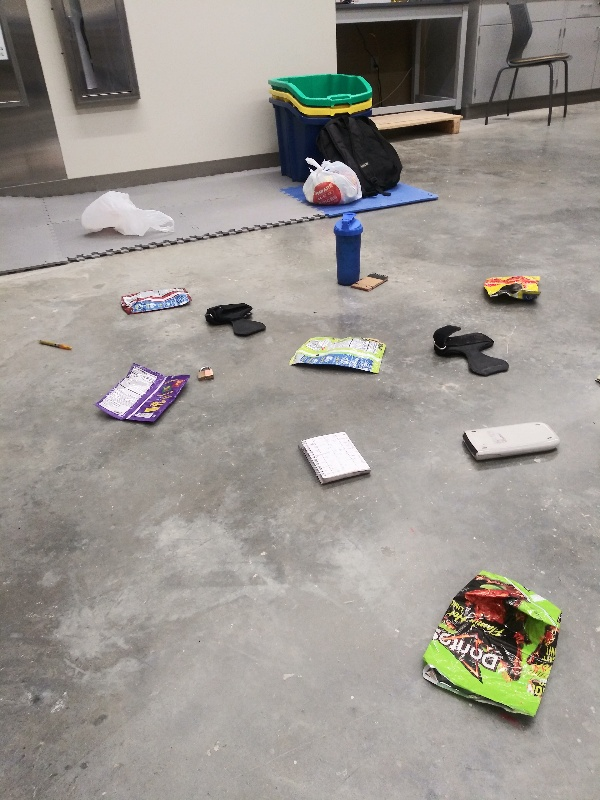bag: (413, 568, 570, 726), (92, 358, 192, 431), (286, 332, 387, 376), (477, 270, 547, 307), (115, 284, 196, 314)
